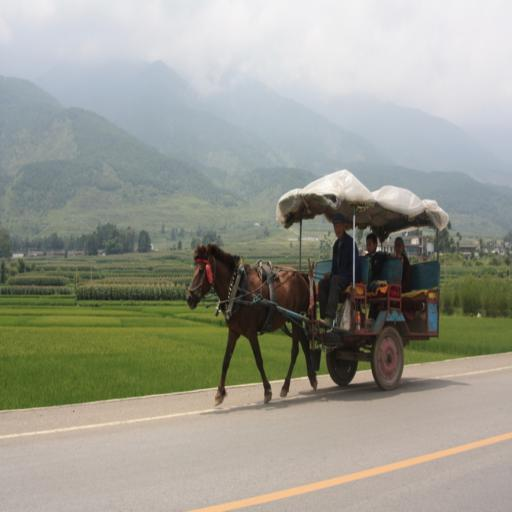horse: (184, 236, 320, 408)
